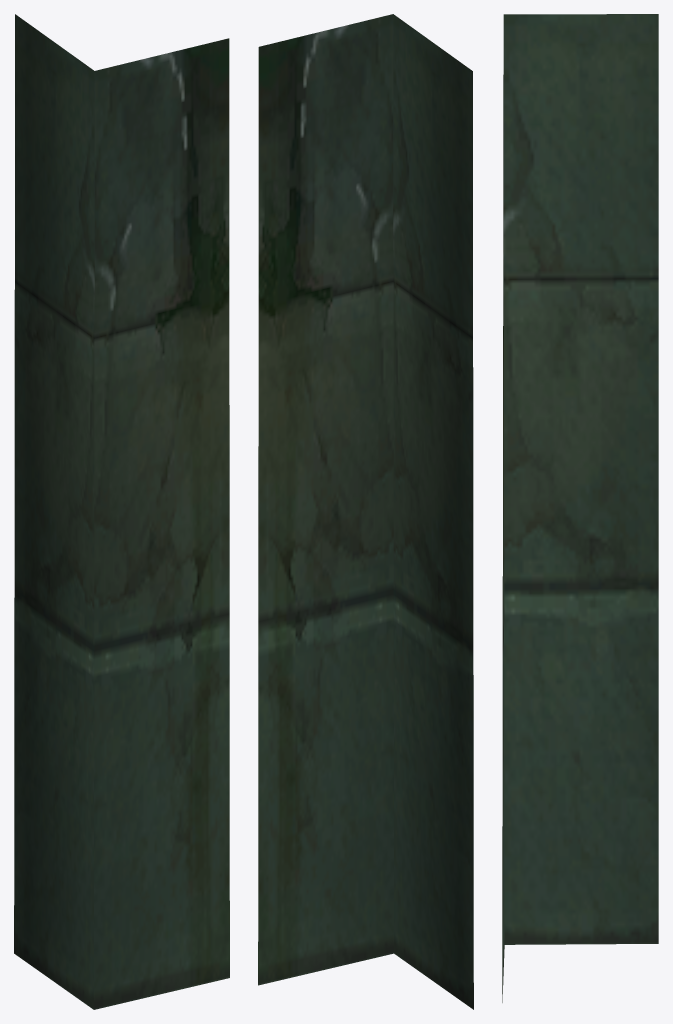
File: stemple_half_convex_05.fbx
The picture shows the model from 3 angles, left to right: view 1: azimuth 30°, elevation 25°; view 2: azimuth 210°, elevation 25°; view 3: azimuth 270°, elevation 25°; orthographic projection.
Visible parts, largest first — view 1: sunken_tileset/sunken_wall_straight07_mat; view 2: sunken_tileset/sunken_wall_straight07_mat; view 3: sunken_tileset/sunken_wall_straight07_mat.
Part boxes in pixels (x1,y1,x2,y2): sunken_tileset/sunken_wall_straight07_mat: (14,14,229,1009); sunken_tileset/sunken_wall_straight07_mat: (258,14,473,1009); sunken_tileset/sunken_wall_straight07_mat: (502,14,658,1002).
Bounding box in the file's own units: 0.4191 × 2.75 × 0.4192.
